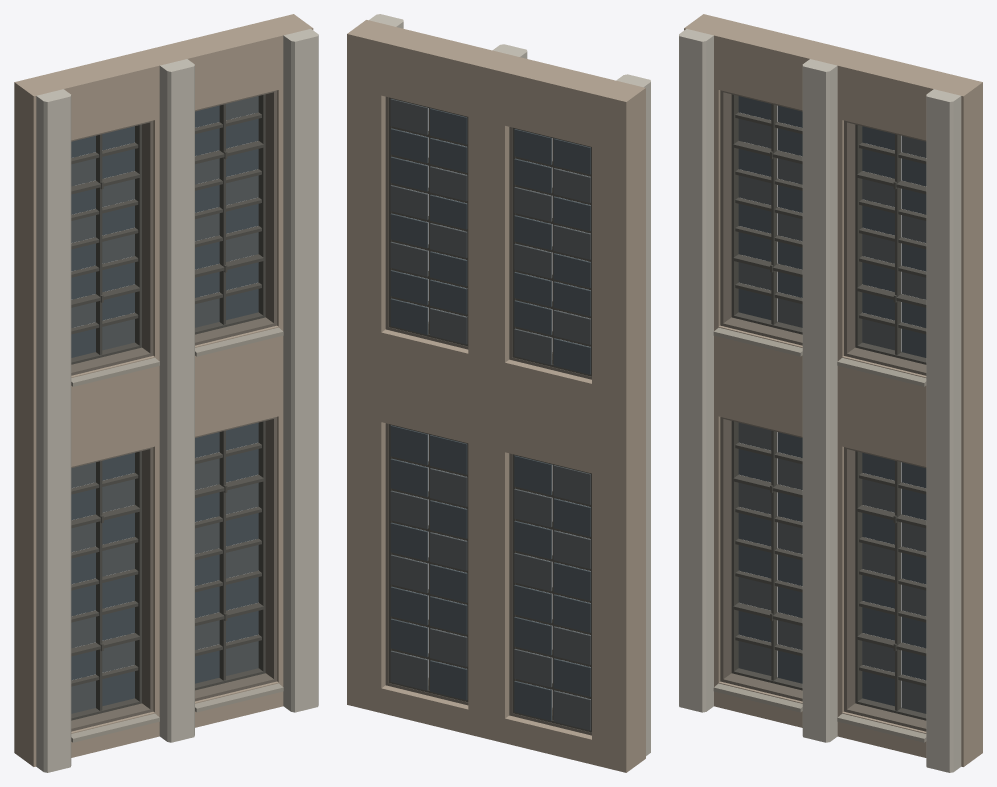
Rendered from xuhui-georgia-apartments-stair-window-fins-web.glb.
3 renders of one model, left to right at view 1: azimuth 30°, elevation 25°; view 2: azimuth 150°, elevation 25°; view 3: azimuth 330°, elevation 25°, orthographic.
Visible parts, largest first — view 1: 会斯乐公寓衡山路楼梯间竖窗与水泥线板; view 2: 会斯乐公寓衡山路楼梯间竖窗与水泥线板; view 3: 会斯乐公寓衡山路楼梯间竖窗与水泥线板.
Part boxes in pixels (x1,y1,x2,y2): 会斯乐公寓衡山路楼梯间竖窗与水泥线板: (14,14,318,772); 会斯乐公寓衡山路楼梯间竖窗与水泥线板: (347,14,650,772); 会斯乐公寓衡山路楼梯间竖窗与水泥线板: (679,14,982,772).
Size of the model in its own units: 2.49 by 5.72 by 0.445.
